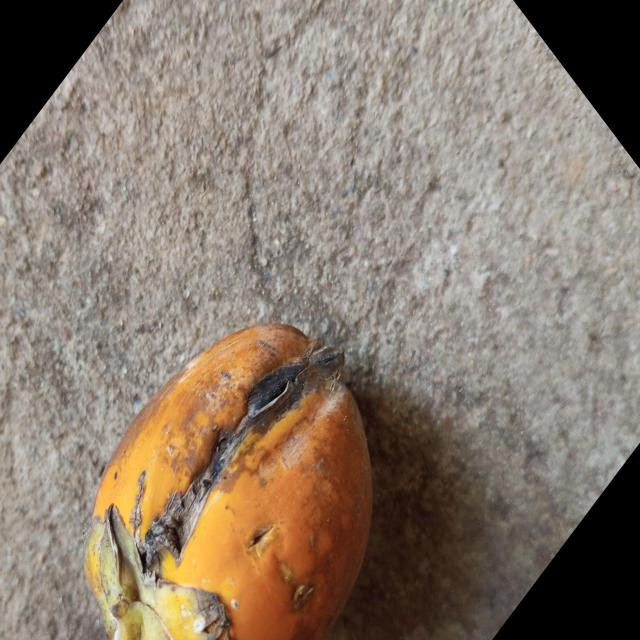damaged: (85, 324, 372, 640)
